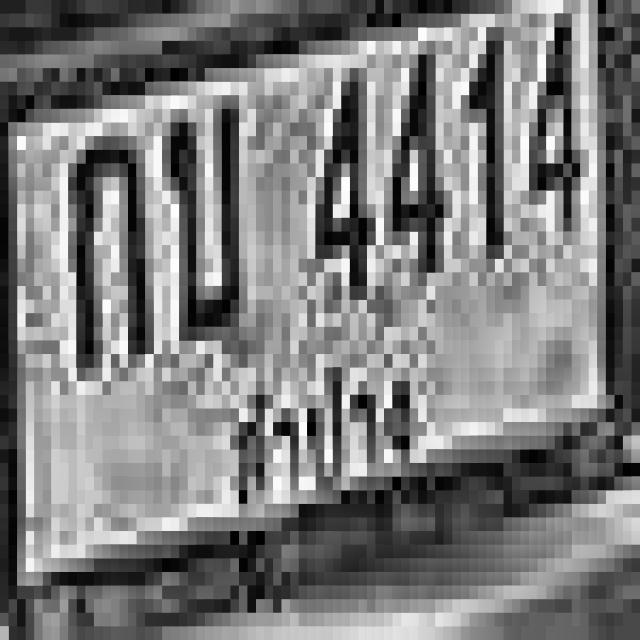license-plate: (0, 0, 606, 572)
